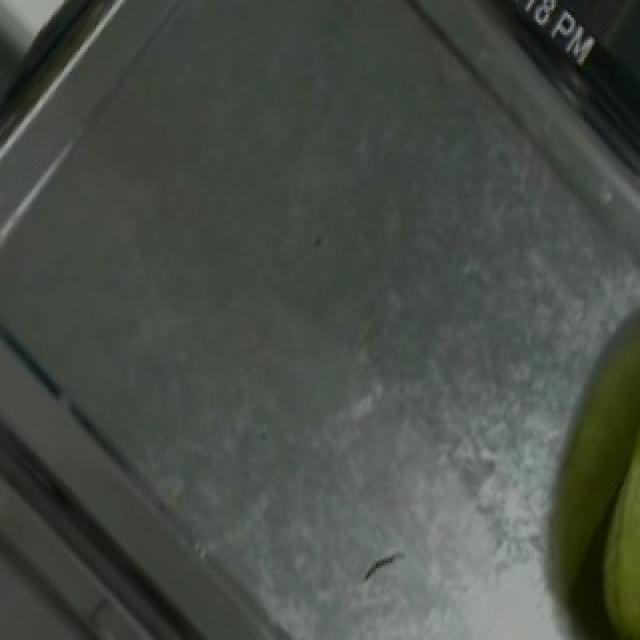fruit: (566, 389, 640, 640)
